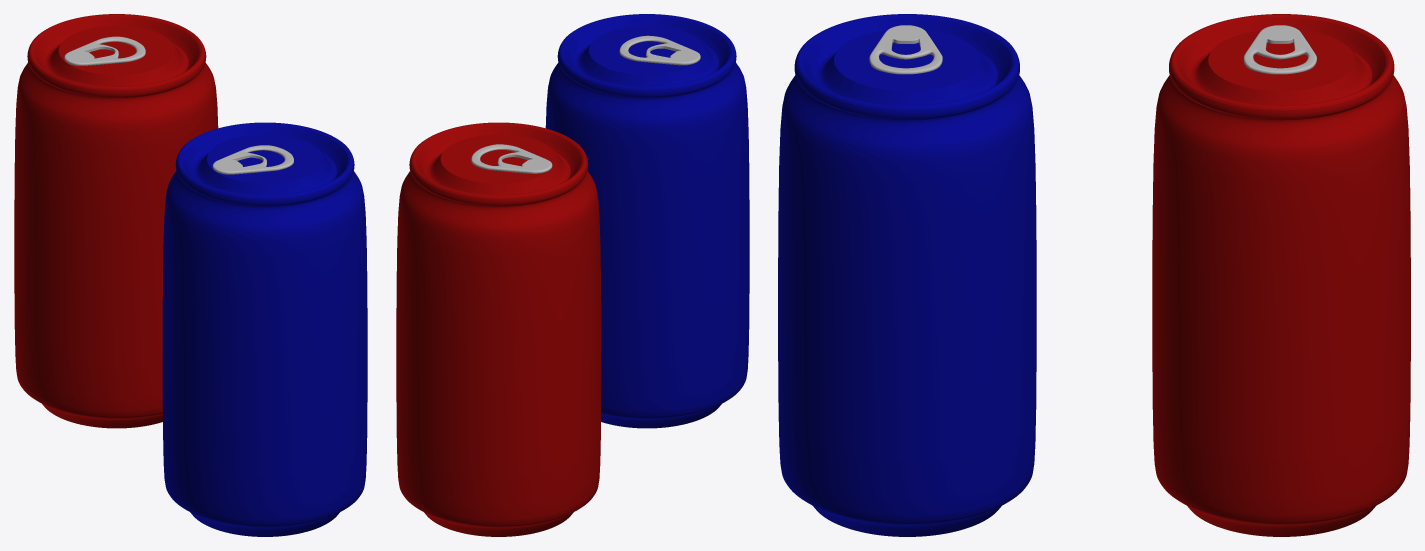
Rendered from cansUPGRADE.glb.
3 renders of one model, left to right at view 1: azimuth 30°, elevation 25°; view 2: azimuth 150°, elevation 25°; view 3: azimuth 270°, elevation 25°, orthographic. The views are drawn at different scales.
Visible parts, largest first — view 1: Corpo (×2), Lacre (×2); view 2: Corpo (×2), Lacre (×2); view 3: Corpo (×2), Lacre (×2).
Part boxes in pixels (x1,y1,x2,y2): Corpo (×2): (14,14,367,536); Lacre (×2): (64,36,293,174); Corpo (×2): (396,14,749,536); Lacre (×2): (471,35,700,173); Corpo (×2): (778,14,1410,536); Lacre (×2): (869,25,1316,74).
Bounding box in the file's own units: 0.512 × 0.9615 × 1.25.
